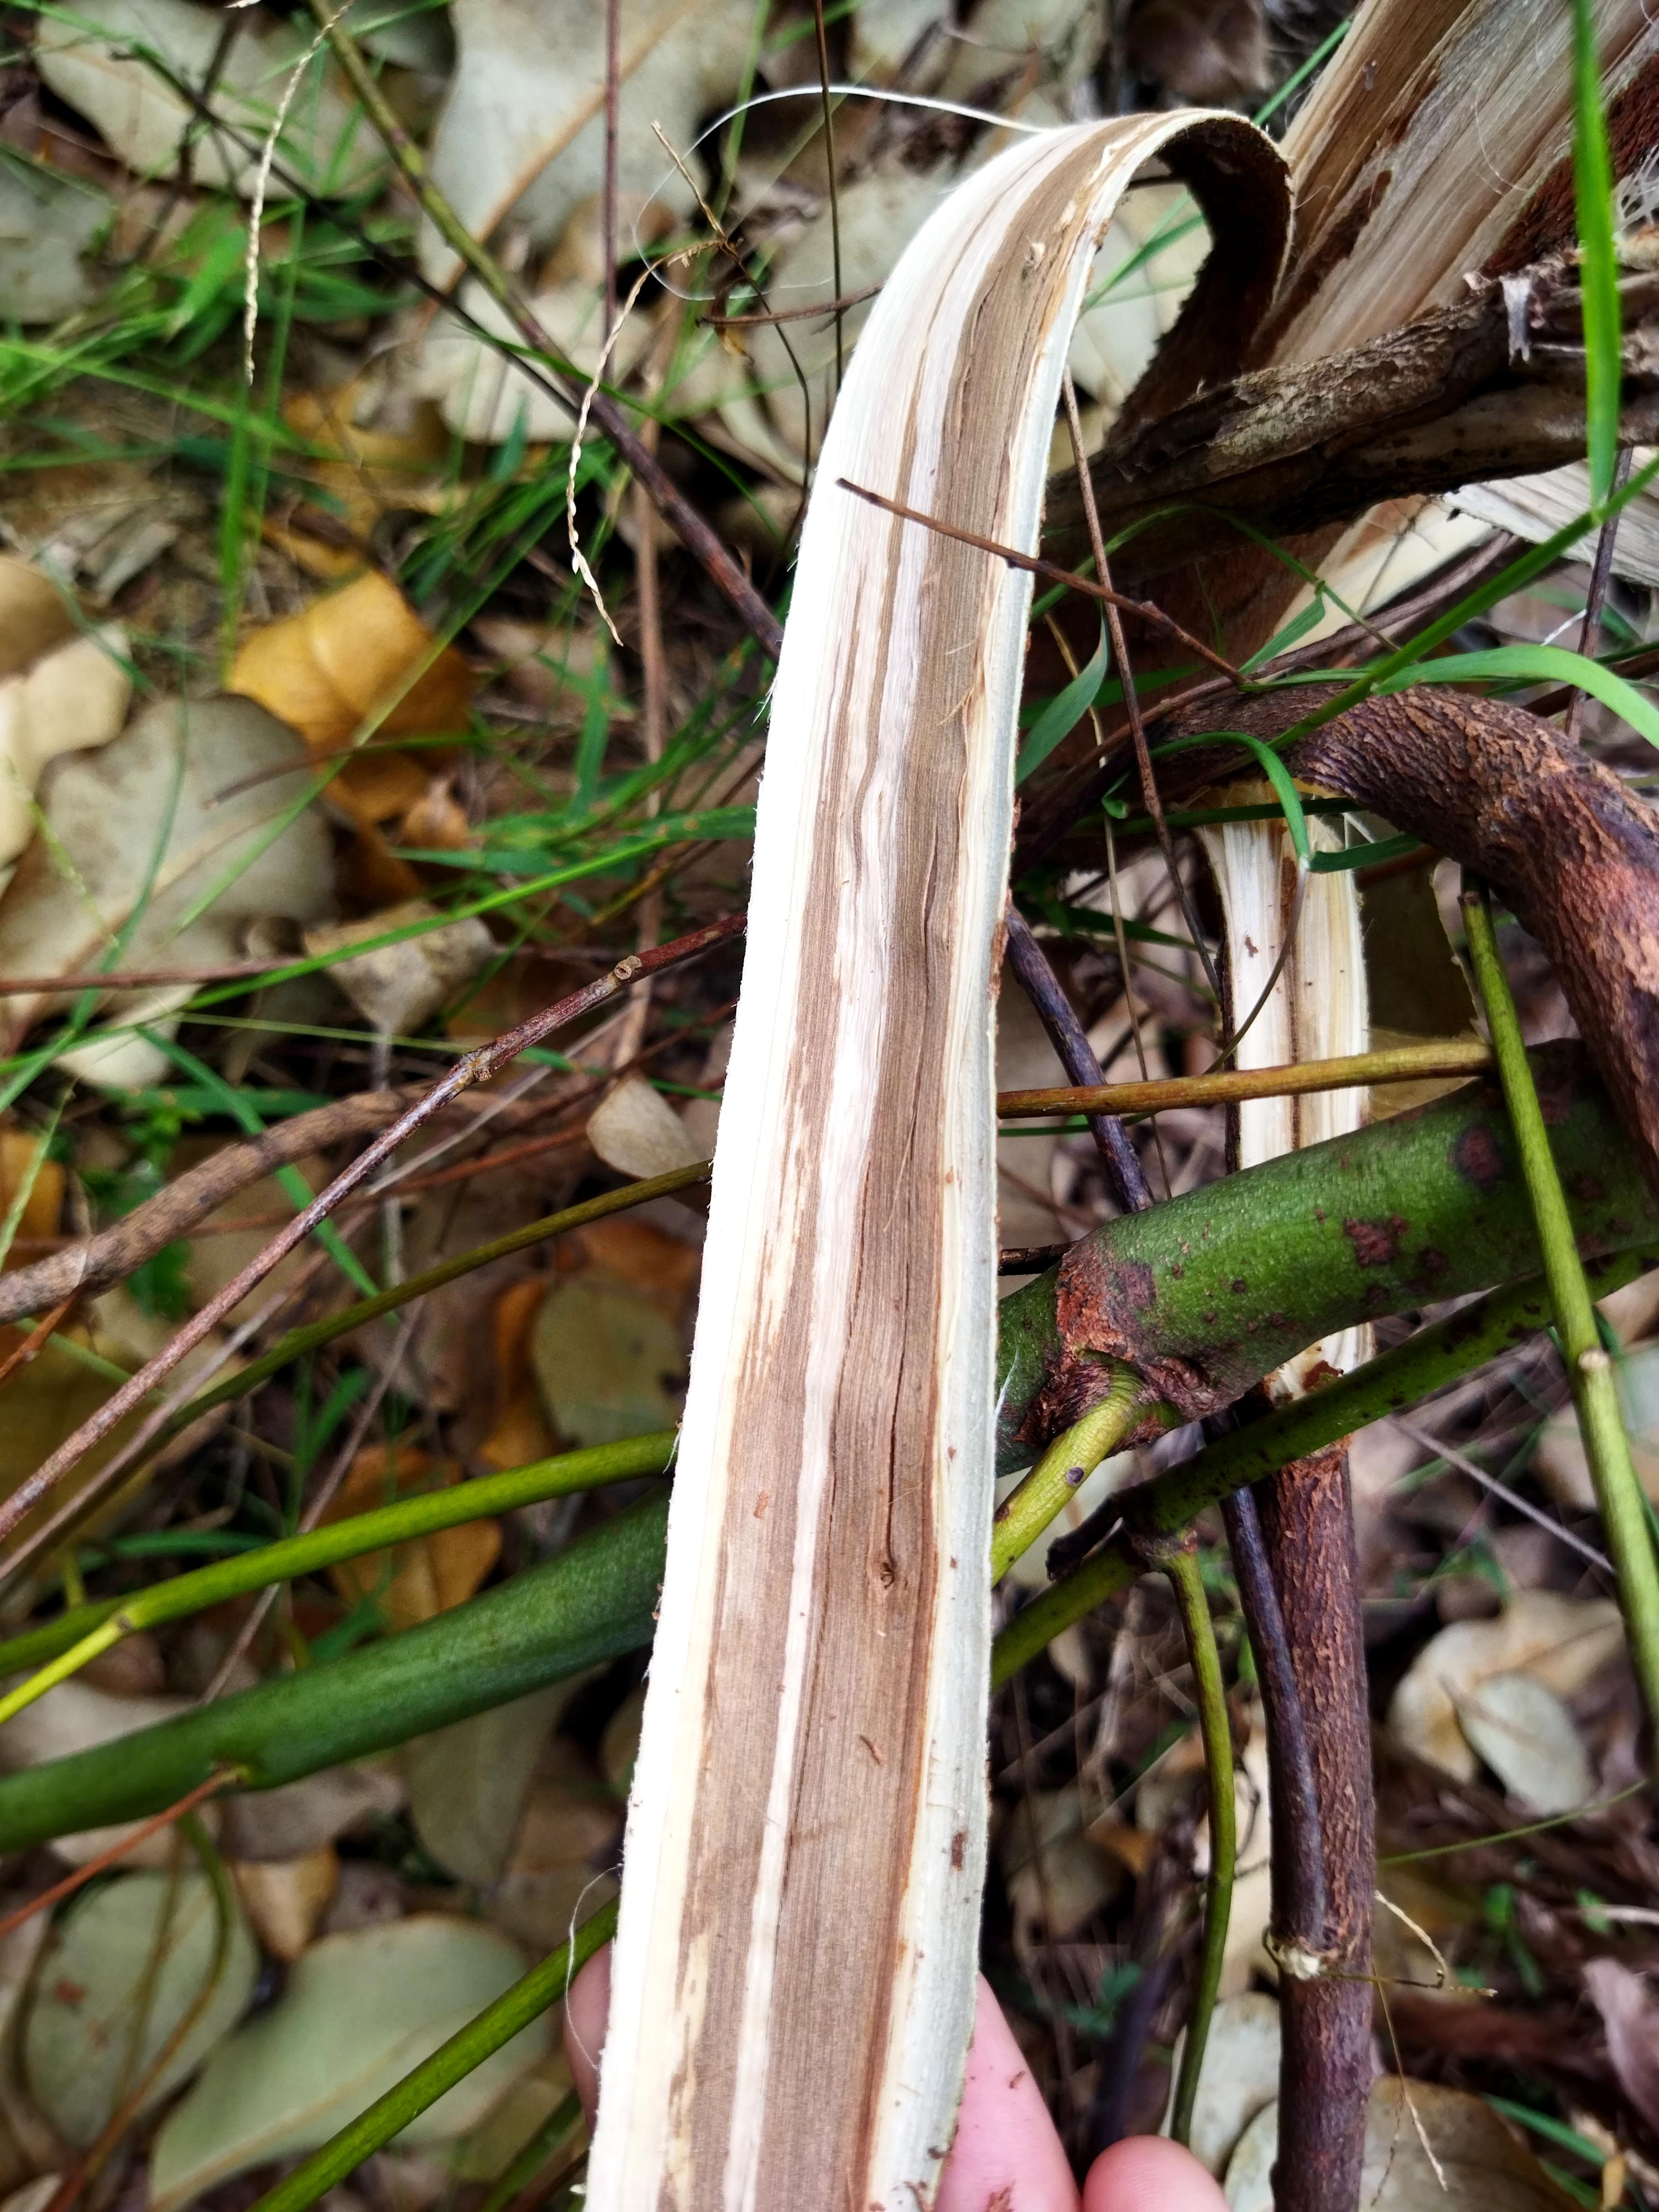Ralstonia: (629, 101, 1180, 2212)
